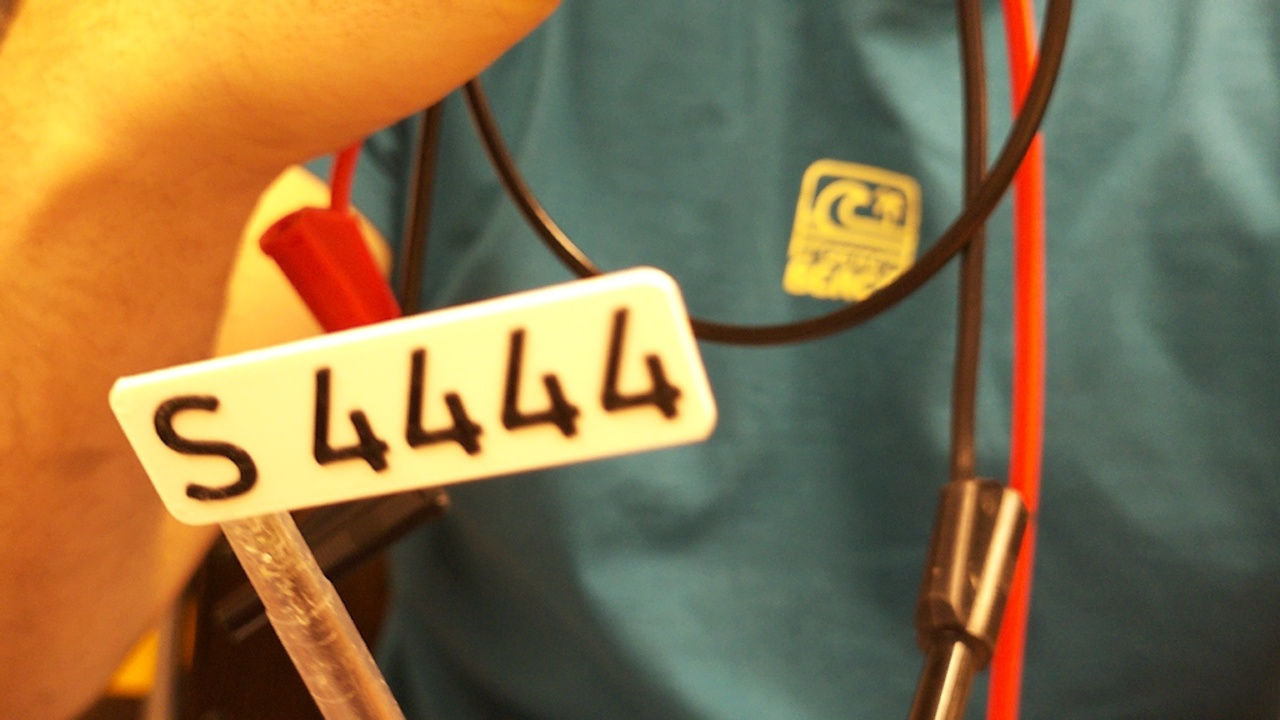license_plate: (103, 261, 720, 528)
